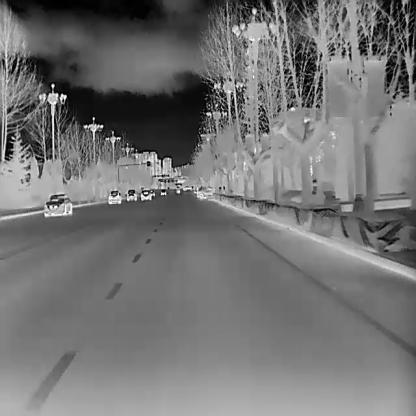car: (43, 193, 72, 216), (107, 189, 122, 205), (196, 186, 214, 198), (126, 188, 137, 200), (140, 188, 151, 200), (149, 189, 155, 197), (160, 189, 166, 195)
